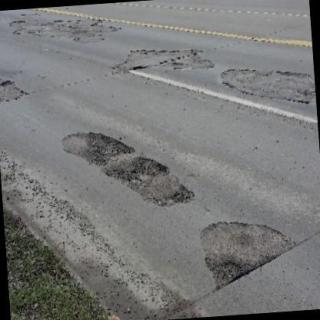pothole: (200, 222, 297, 292), (105, 157, 194, 205), (221, 69, 315, 102), (14, 18, 122, 42), (62, 132, 134, 167), (118, 50, 215, 73), (0, 81, 29, 101)
